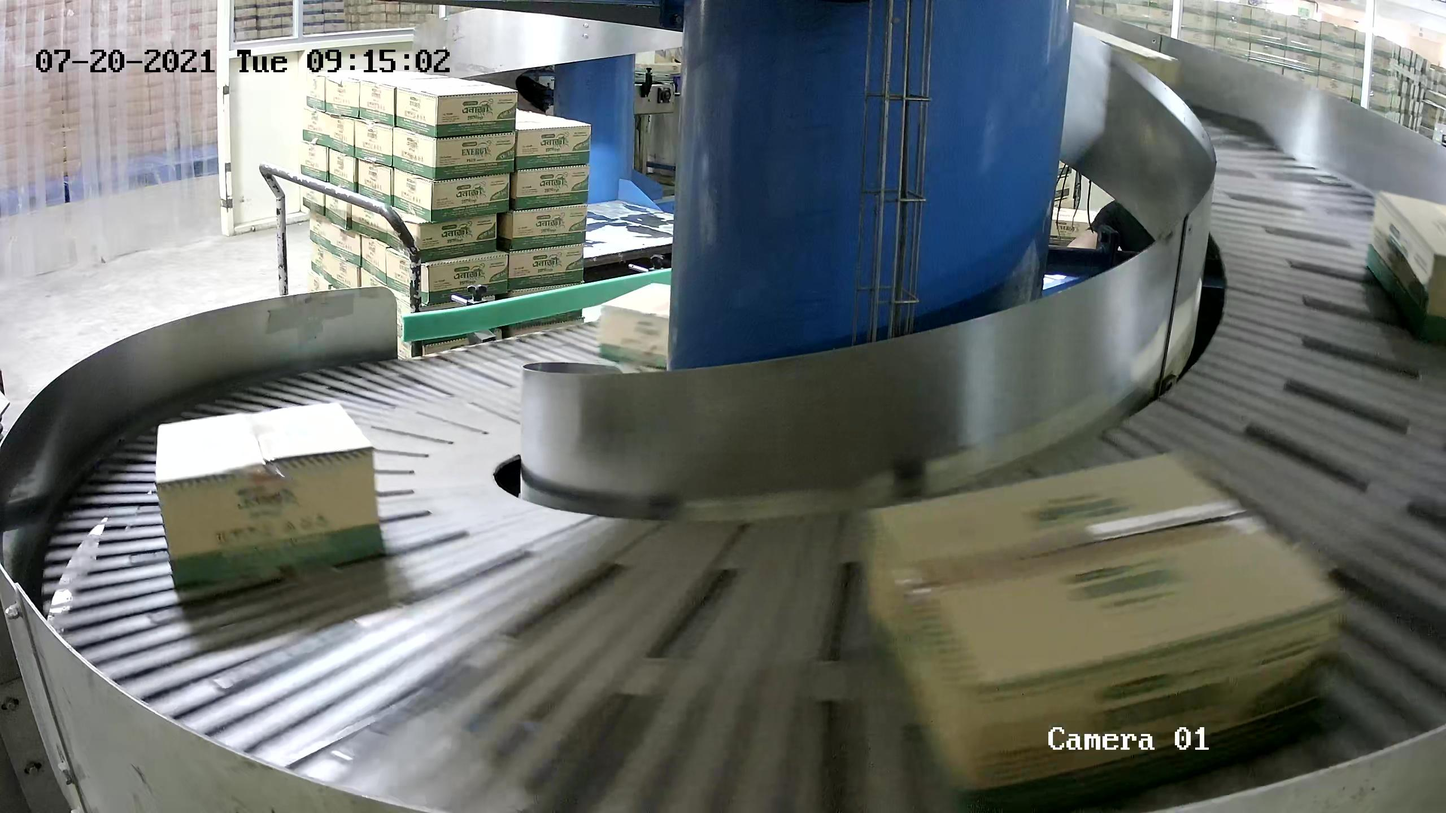Box: (858, 447, 1350, 813), (154, 400, 385, 587), (1364, 191, 1446, 336), (598, 282, 671, 368)
